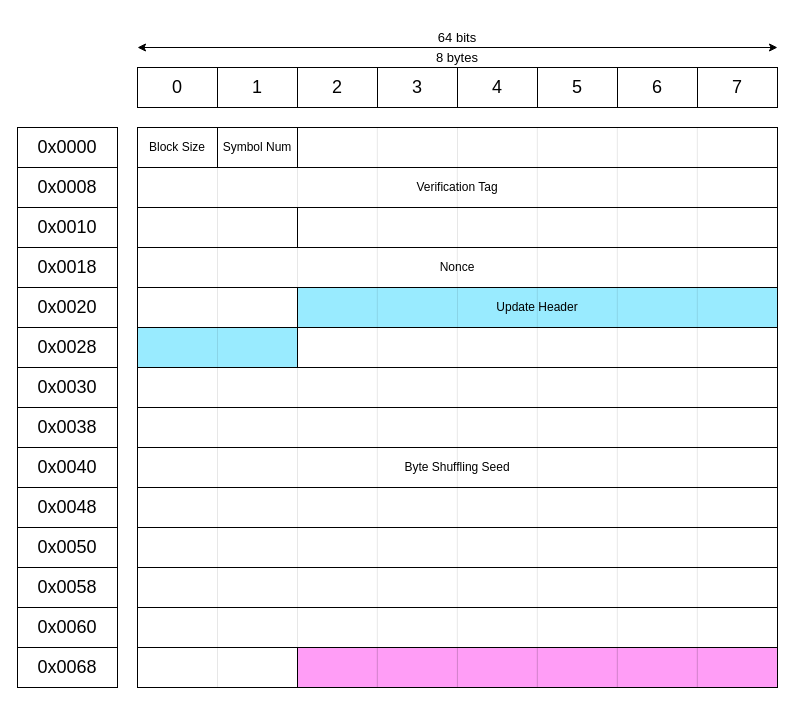
Some shapes in this 804 by 705 pixel diagram are drawn without their labels. The box of each missing label's shape, as (x1, y1, x2, y2) in pixels:
(64 bytes): (136, 486, 778, 528)
Encryption Key (u nknown length): (296, 646, 778, 688)
